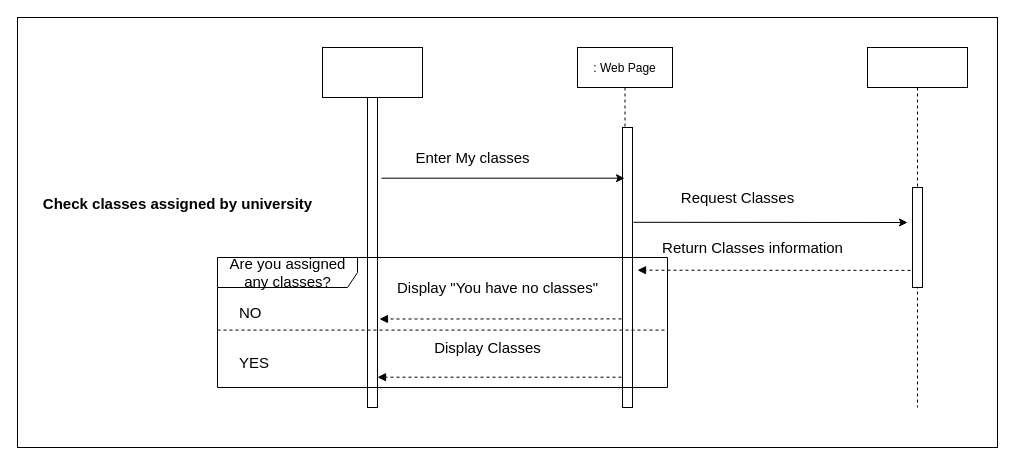
Image size: 1015x465. Some labels were removed from this diagram. The shapes that lost their labels are listed below. From the top down, each one's centre as x and y in pixels, then its label:
(372,72): : Professor
(917,227): : Database
